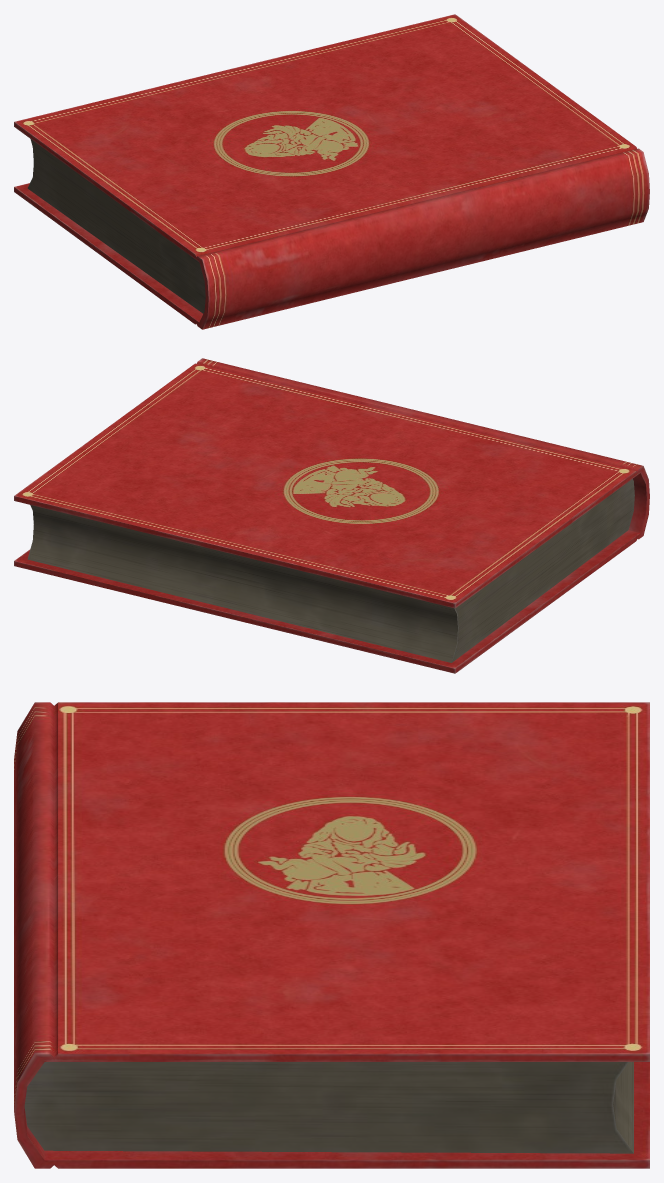
The model's file is book_2.FBX.
The picture shows the model from 3 angles, top to bottom: view 1: azimuth 30°, elevation 25°; view 2: azimuth 150°, elevation 25°; view 3: azimuth 270°, elevation 25°; orthographic projection. The views are drawn at different scales.
Visible parts, largest first — view 1: Book_2; view 2: Book_2; view 3: Book_2.
Part boxes in pixels (bbox=[...]): Book_2: bbox=[14, 14, 649, 329]; Book_2: bbox=[14, 358, 649, 673]; Book_2: bbox=[14, 702, 649, 1168].
Size of the model in its own units: 0.1625 by 0.0246 by 0.1242.
1 material, 1 textured.
